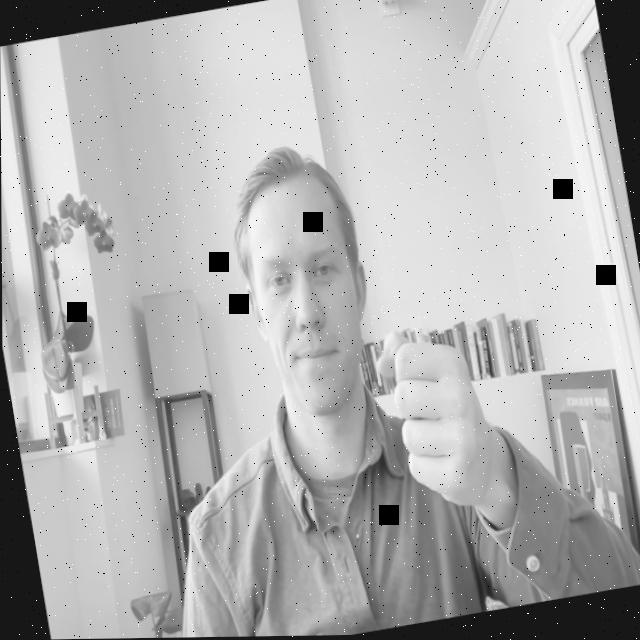Scissors: (367, 310, 500, 529)
